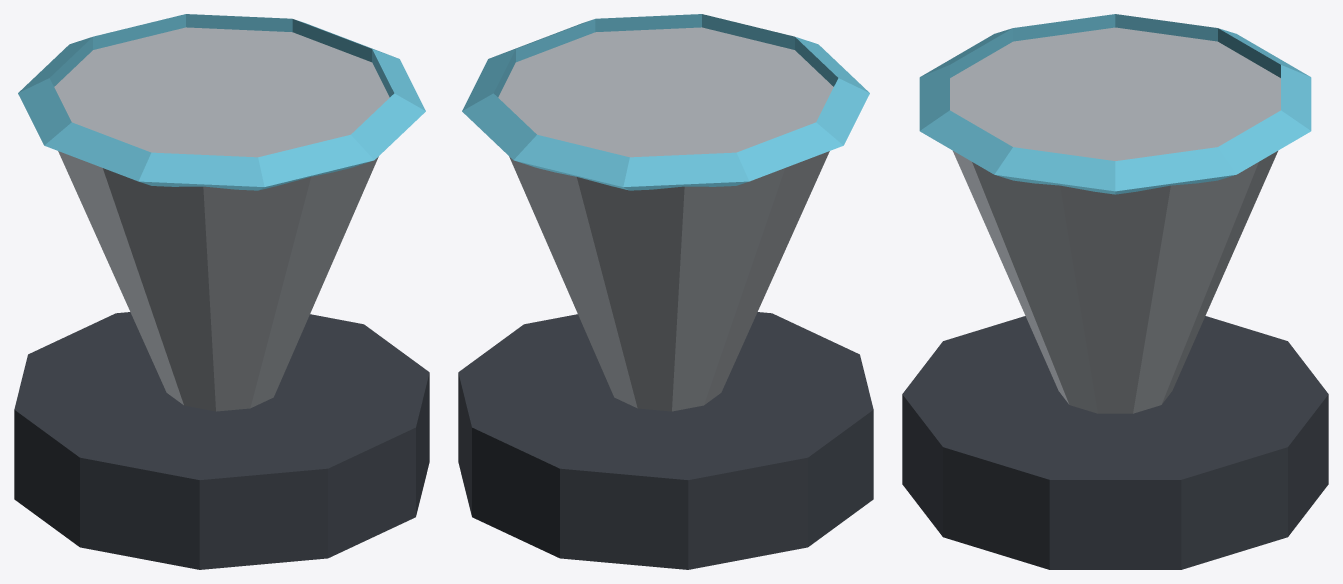
Rendered from mod-emitter.glb.
3 views of the same model, side by side, from view 1: azimuth 30°, elevation 25°; view 2: azimuth 150°, elevation 25°; view 3: azimuth 270°, elevation 25° (orthographic).
Visible parts, largest first — view 1: m; view 2: m; view 3: m.
Part boxes in pixels (x1,y1,x2,y2): m: [14, 14, 429, 569]; m: [458, 14, 873, 569]; m: [902, 14, 1328, 569].
Bounding box in the file's own units: 0.0539 × 0.0572 × 0.0557.
